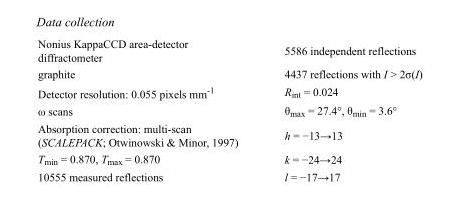table: (37, 37, 421, 182)
table column: (37, 37, 260, 182), (260, 37, 421, 182)
table row: (37, 119, 421, 149), (37, 37, 421, 65), (37, 82, 421, 101), (37, 149, 421, 168), (37, 101, 421, 119), (37, 65, 421, 82), (37, 168, 421, 182)
